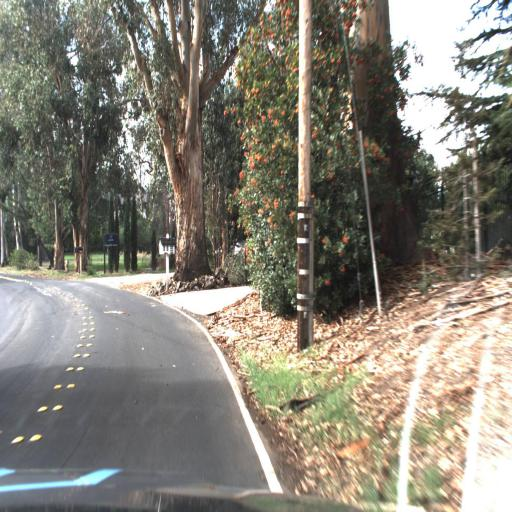car: (223, 236, 249, 266)
